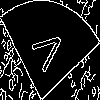V: (25, 24, 66, 79)
